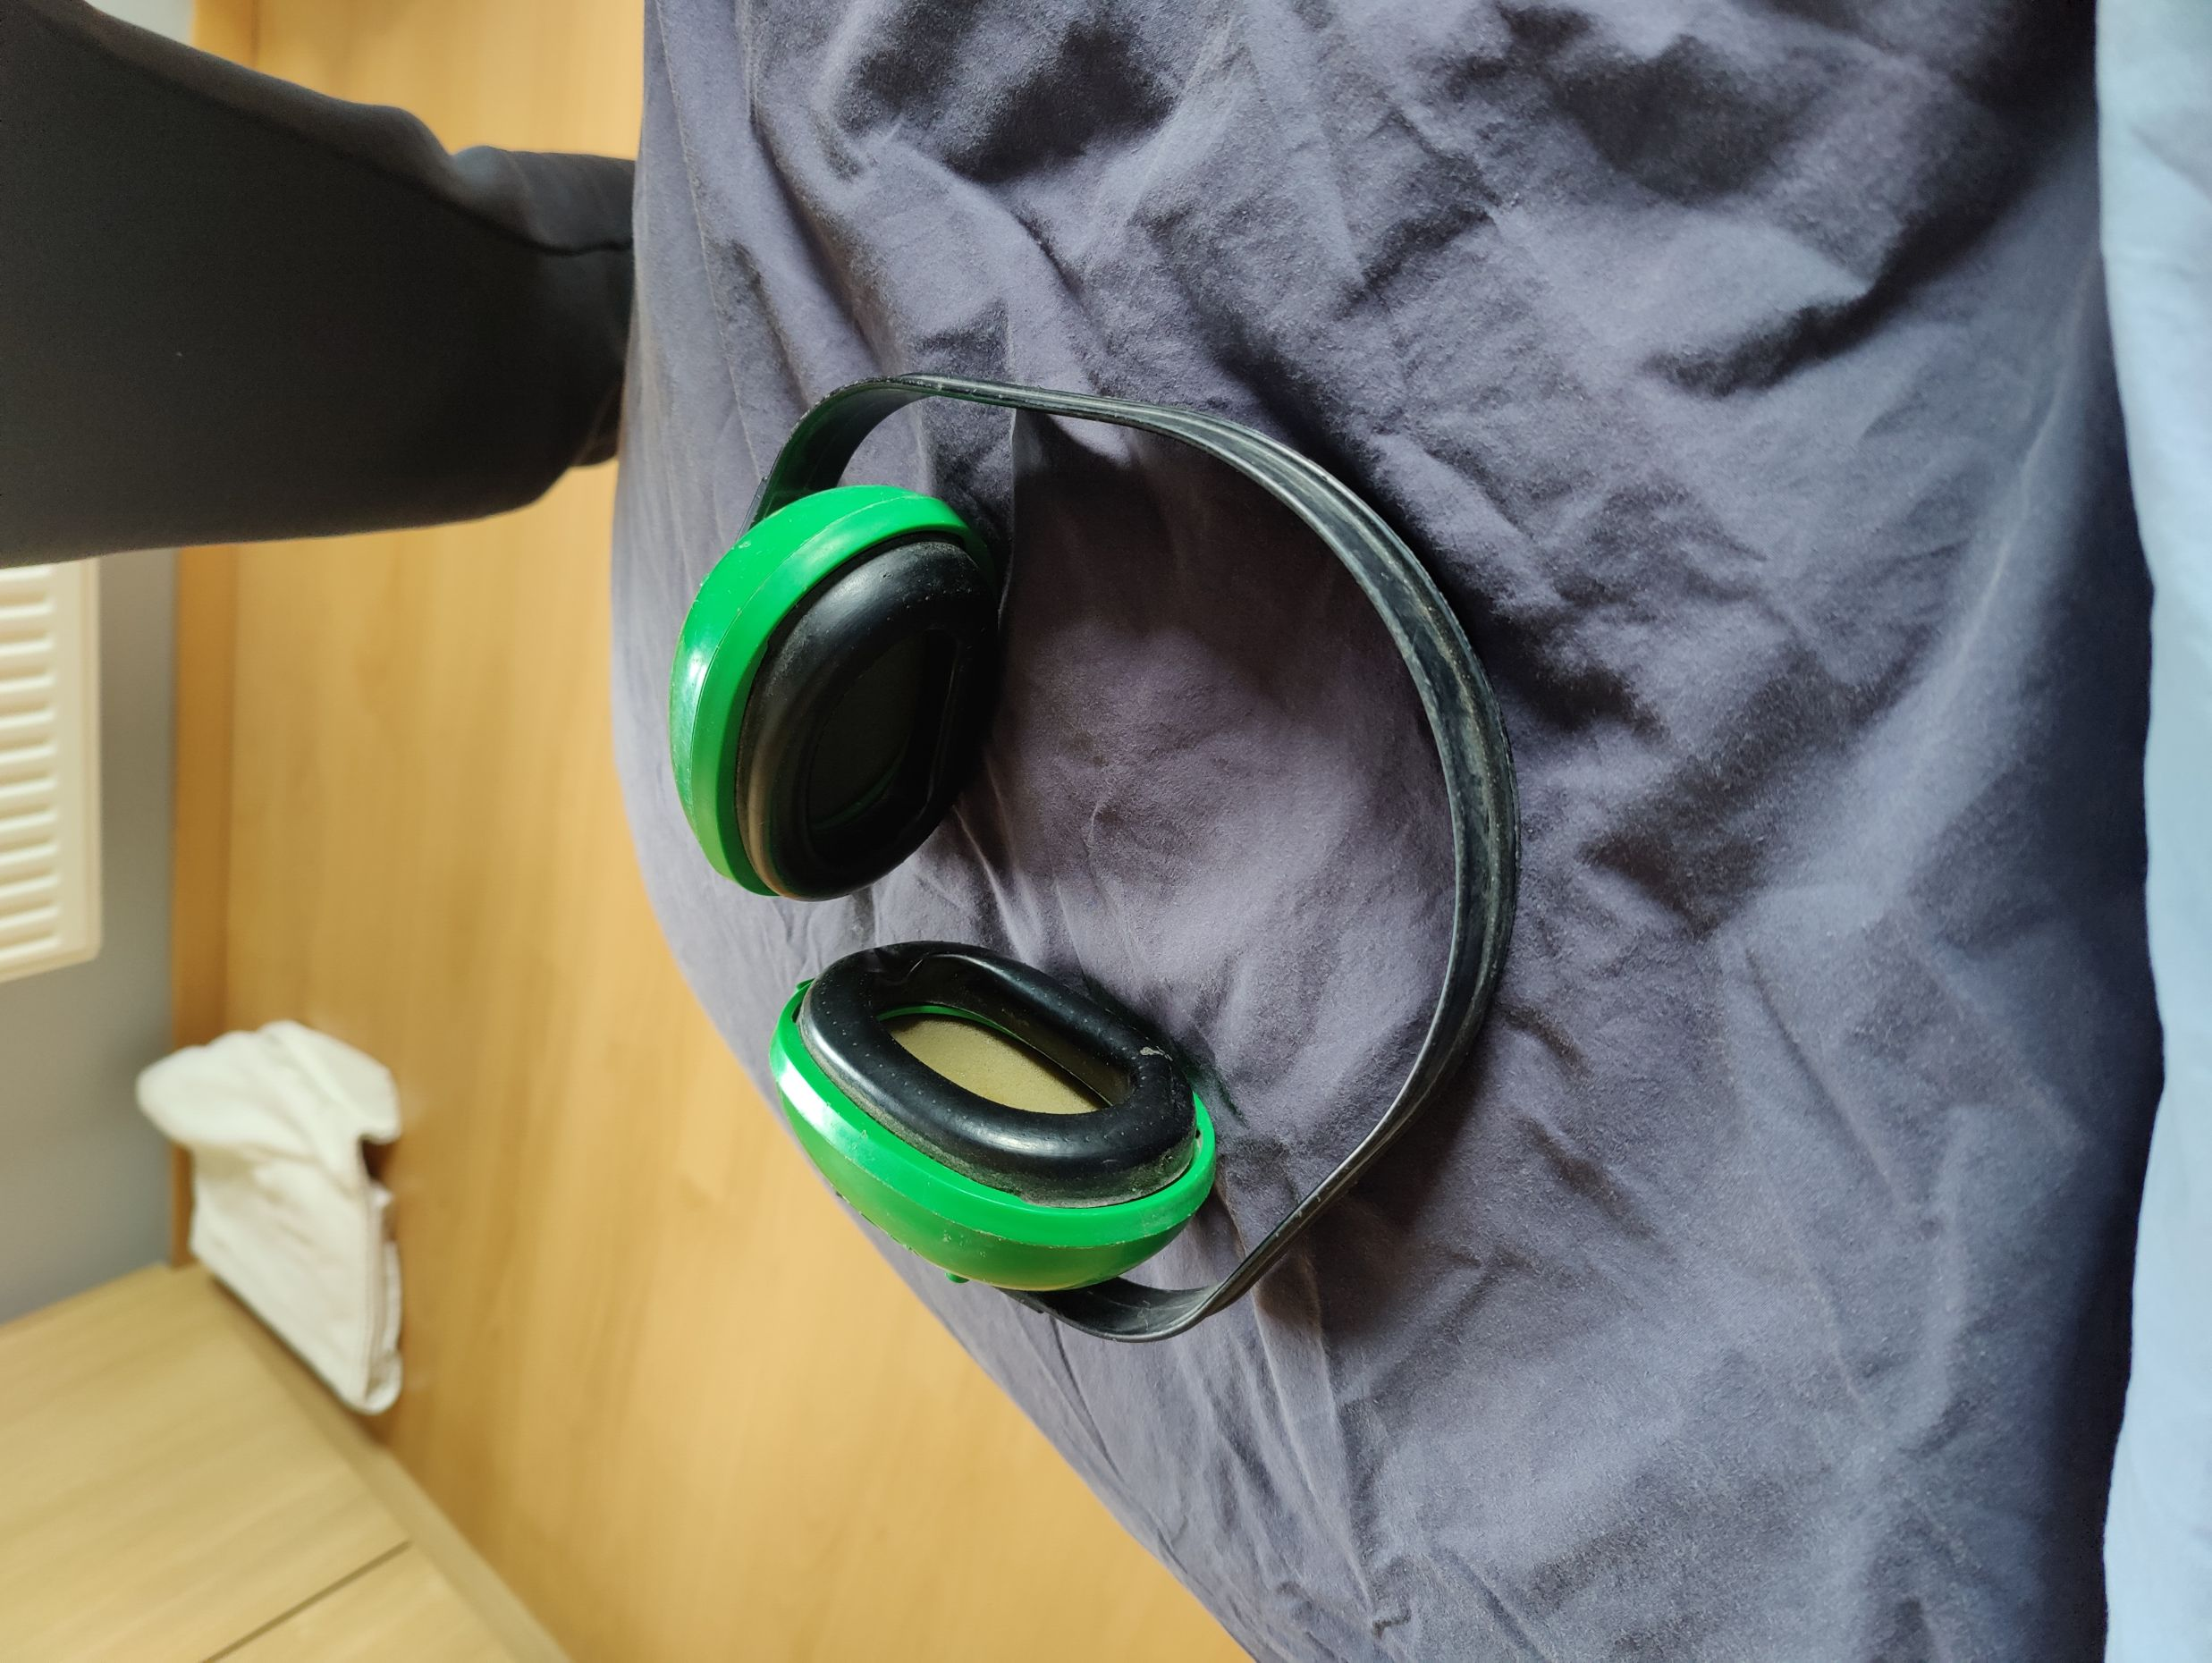headphones: (667, 379, 1518, 1345)
